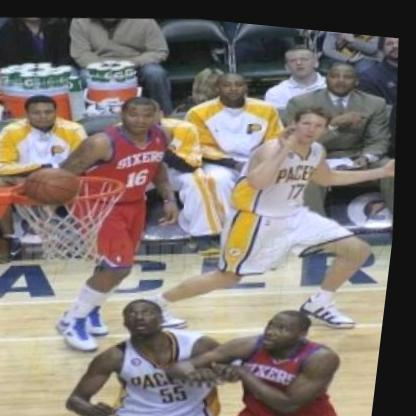basketball: (19, 156, 92, 210)
